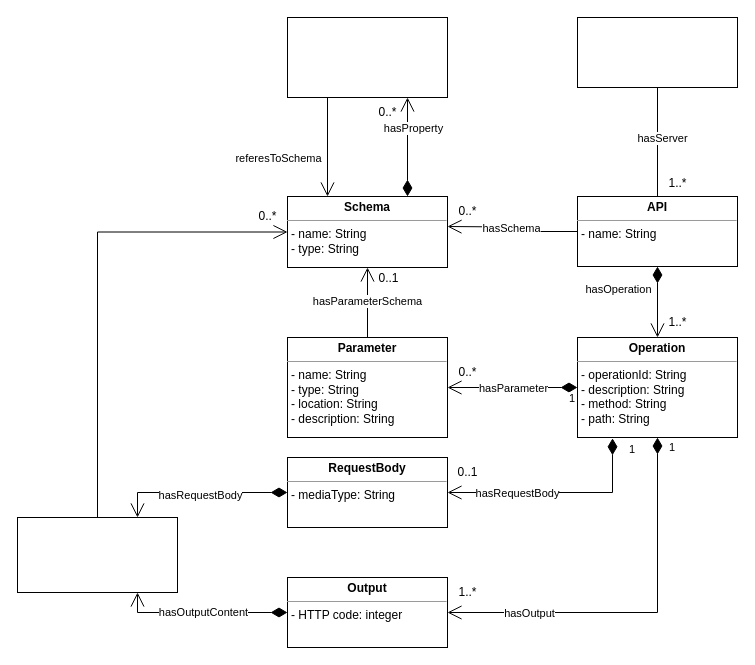
The diagram is 755 pixels wide and 665 high, and some of its shapes have lost their labels. The shapes that lost their labels are listed below. From the top down, each one's box as (x1, y1, x2, y2) in pixels, then its label:
(286, 16, 448, 98): Property - name: String - type: String - description: String
(576, 16, 738, 88): Server - path: String
(16, 516, 178, 592): Content - mediaType: String
